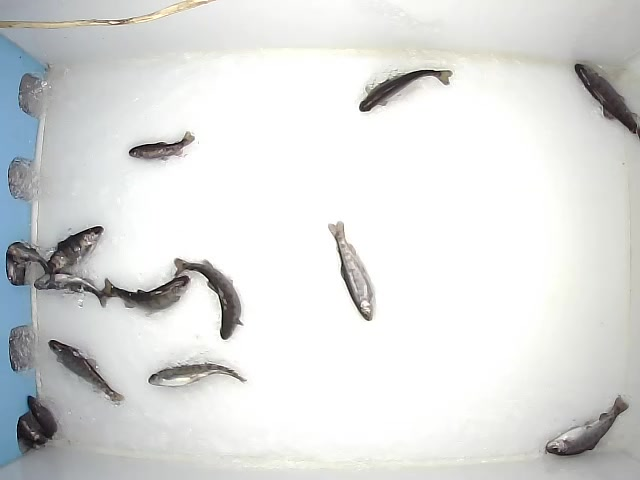fish: (173, 257, 245, 342), (571, 61, 640, 144), (542, 392, 630, 457), (46, 339, 126, 407), (324, 221, 376, 323), (357, 68, 454, 114), (100, 274, 191, 316), (39, 223, 104, 279), (32, 270, 107, 310), (145, 361, 248, 387), (127, 128, 197, 162)
